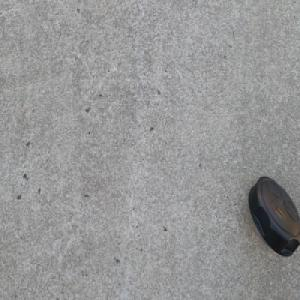FuelCap: (247, 174, 300, 256)
